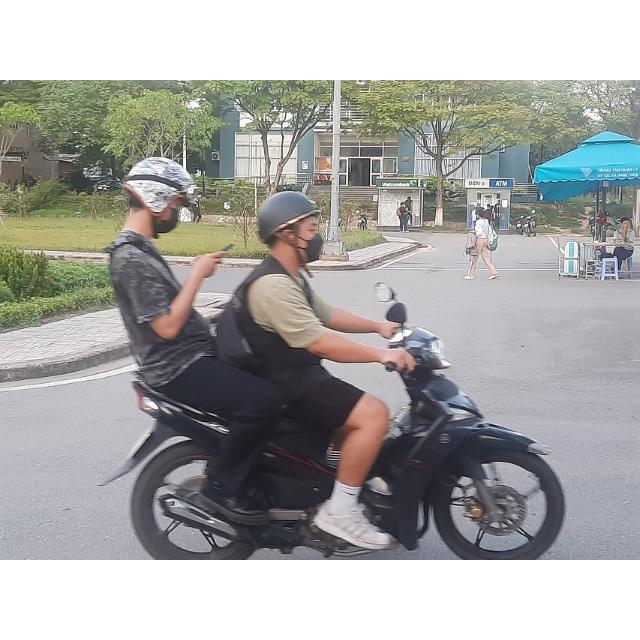Helmet: (120, 158, 196, 235), (256, 188, 326, 266)
